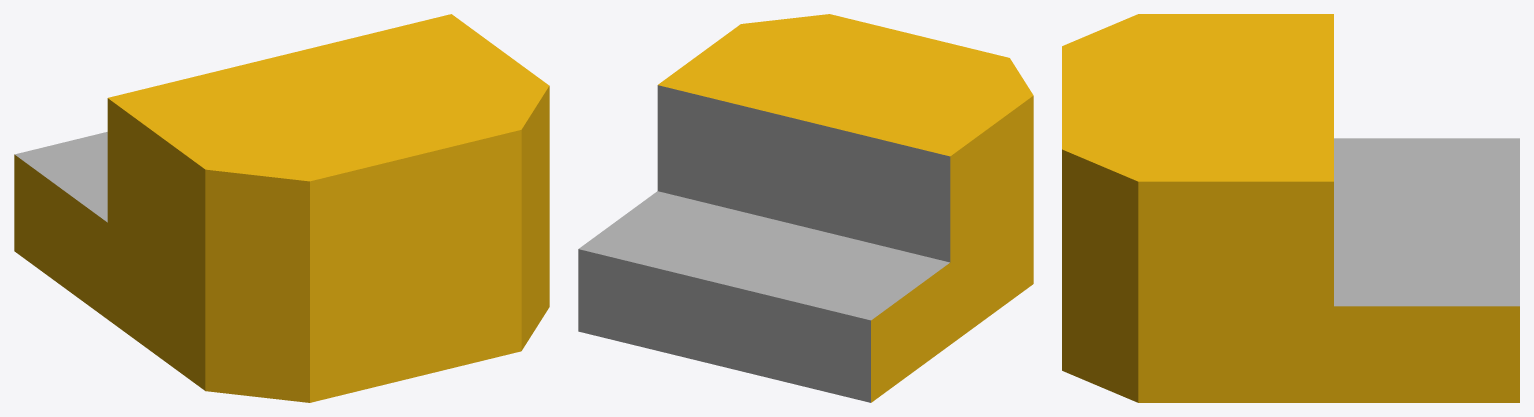
File: FP_PCM12SMTR_MFG_CMPL_001_0011_2_4.gltf
The picture shows the model from 3 angles, left to right: view 1: azimuth 30°, elevation 25°; view 2: azimuth 150°, elevation 25°; view 3: azimuth 270°, elevation 25°; orthographic projection. The views are drawn at different scales.
Visible parts, largest first — view 1: mesh55629, mesh55626, mesh55624, mesh55630, mesh55628, mesh55621; view 2: mesh55626, mesh55622, mesh55623, mesh55621, mesh55624; view 3: mesh55625, mesh55626, mesh55621, mesh55628.
Boxes of the visible parts, x1=… form: mesh55629: x1=310, y1=130, x2=521, y2=402; mesh55626: x1=108, y1=14, x2=549, y2=181; mesh55624: x1=14, y1=98, x2=205, y2=390; mesh55630: x1=205, y1=169, x2=309, y2=402; mesh55628: x1=521, y1=86, x2=549, y2=350; mesh55621: x1=15, y1=132, x2=107, y2=222; mesh55626: x1=658, y1=14, x2=1033, y2=156; mesh55622: x1=657, y1=85, x2=950, y2=262; mesh55623: x1=578, y1=249, x2=870, y2=402; mesh55621: x1=579, y1=191, x2=949, y2=320; mesh55624: x1=871, y1=96, x2=1033, y2=402; mesh55625: x1=1138, y1=181, x2=1519, y2=402; mesh55626: x1=1062, y1=14, x2=1333, y2=181; mesh55621: x1=1334, y1=138, x2=1519, y2=306; mesh55628: x1=1062, y1=149, x2=1138, y2=402.
Bounding box in the file's own units: 0.0013 × 0.0008 × 0.0015.
